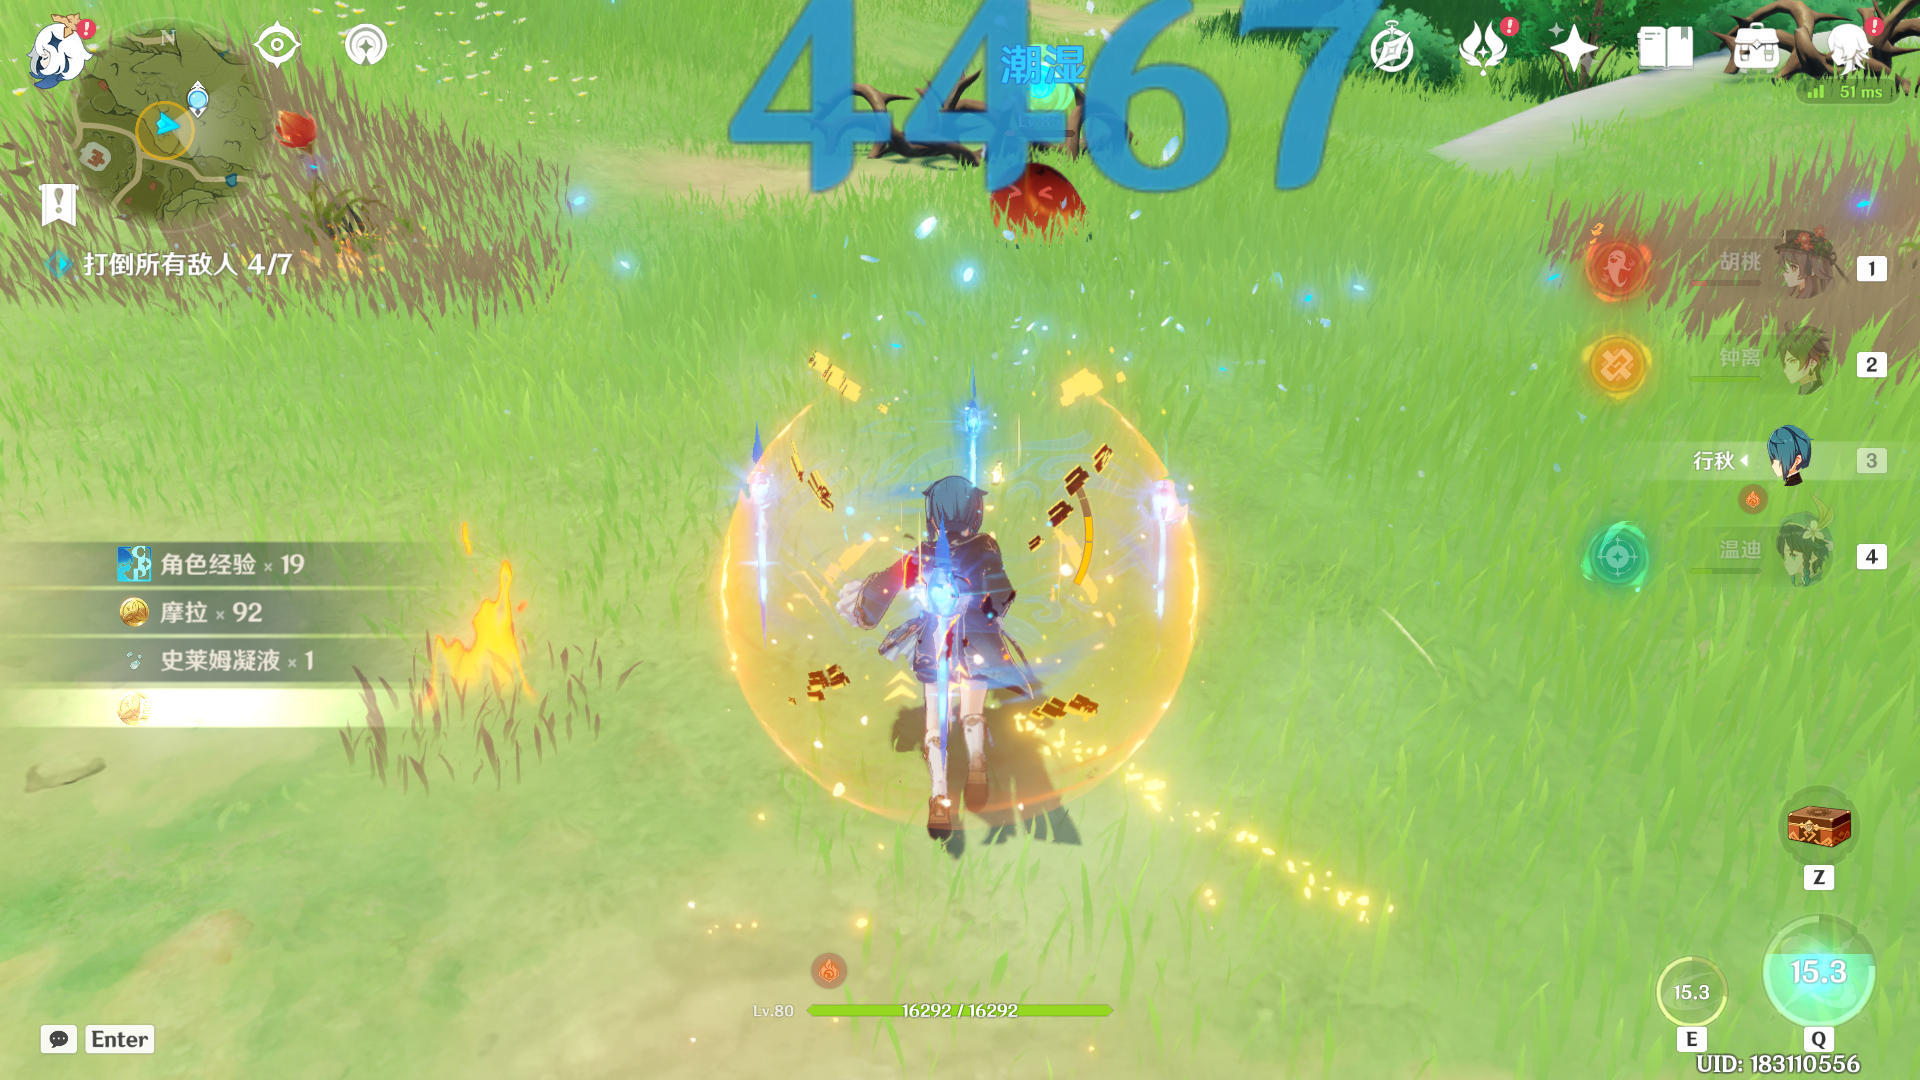character: (800, 450, 1174, 899)
slime: (943, 132, 1112, 260)
